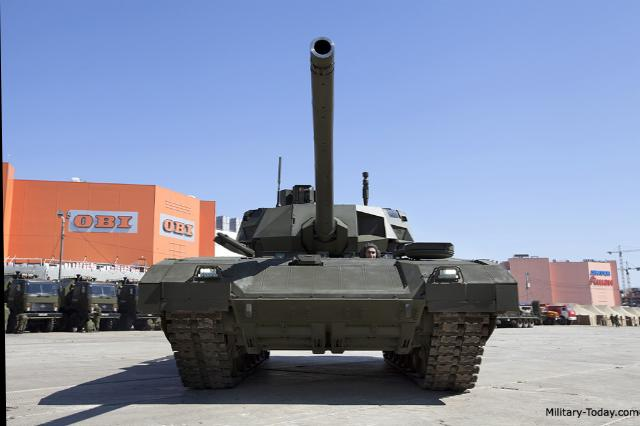tank: (130, 180, 505, 404)
